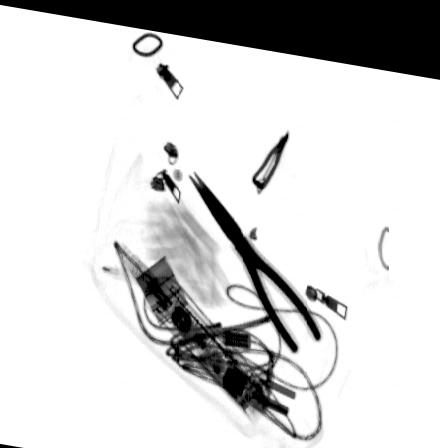Pliers: (187, 162, 325, 345)
